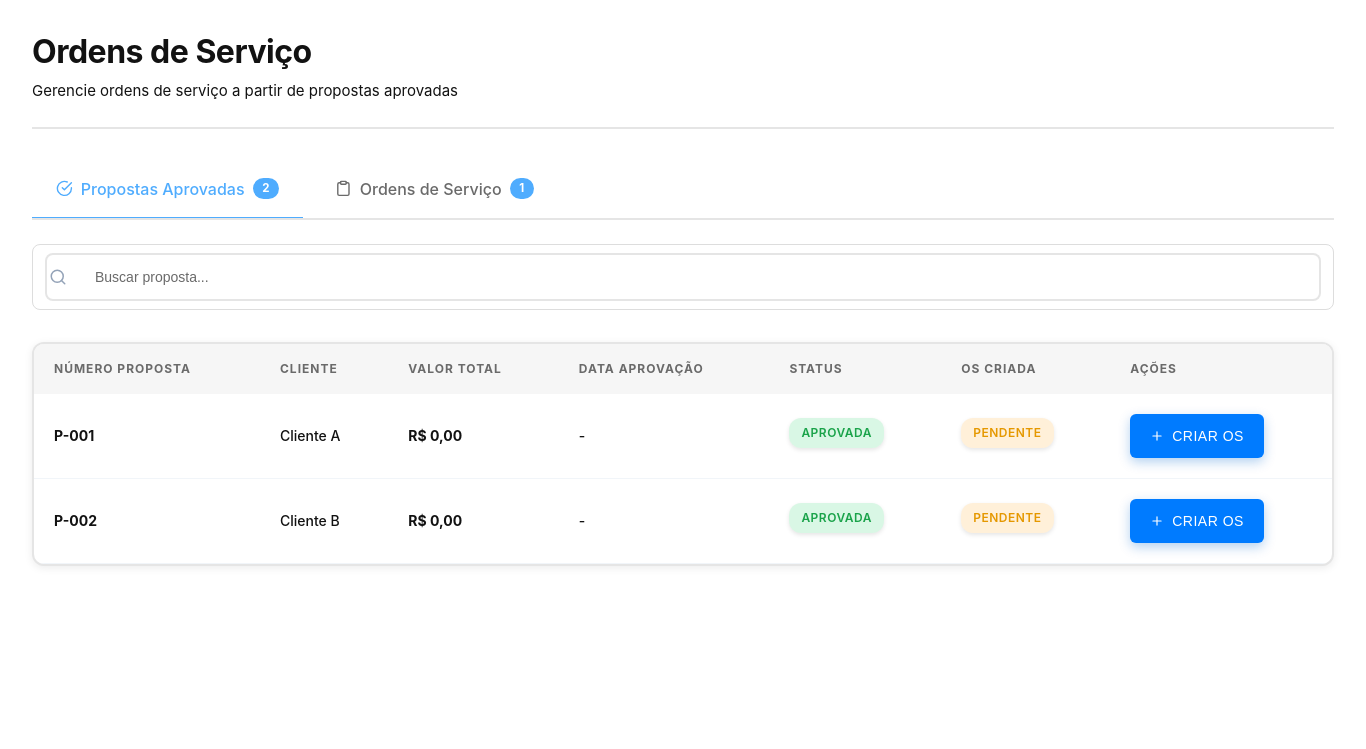
Test case: RN-107.13 comeca em Propostas (tabela de propostas, sem cartoes); Ordens de Servico mostra cartoes e lista de OS
Click the tab "Ordens de Serviço 1" at (434, 190), box x1=311 y1=160 x2=558 y2=220
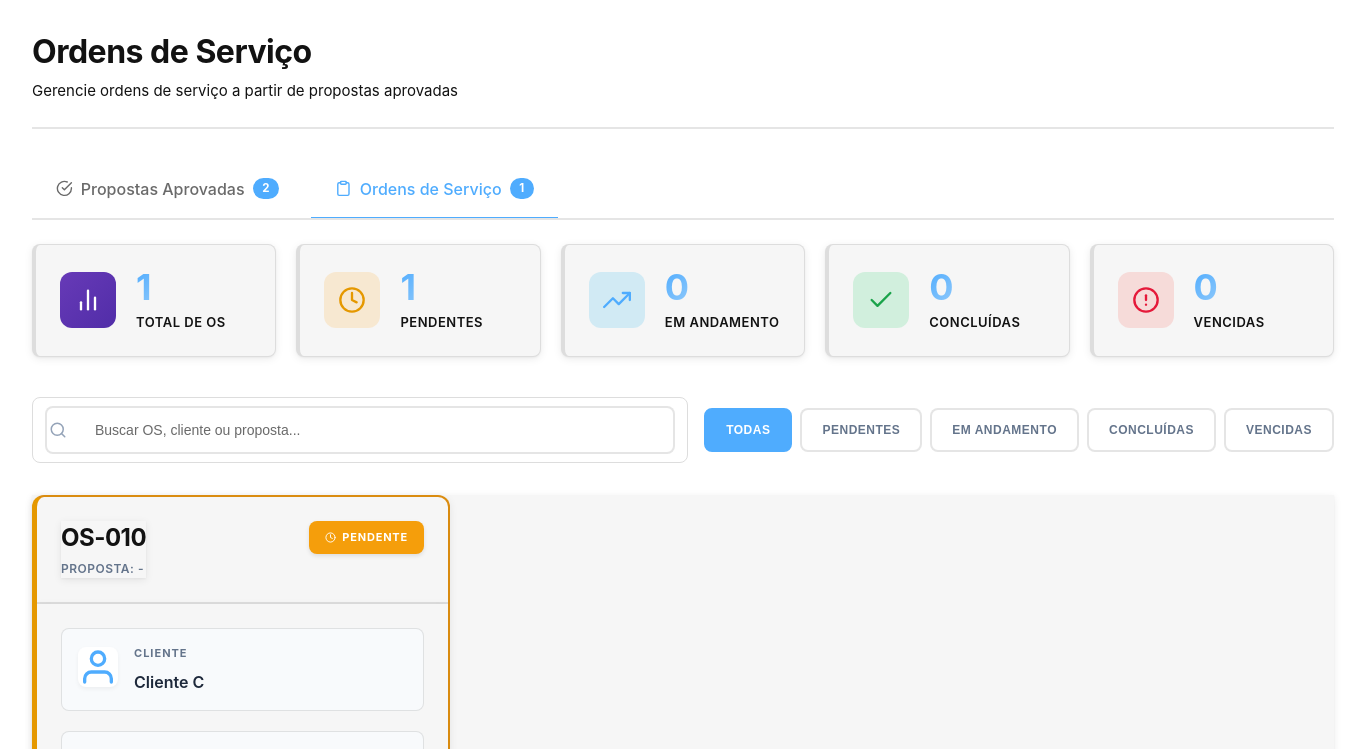
Result: the text "OS-010" is shown at x1=61 y1=521 x2=146 y2=554
Click the tab "Propostas Aprovadas 2" at (168, 190), box x1=32 y1=160 x2=303 y2=220
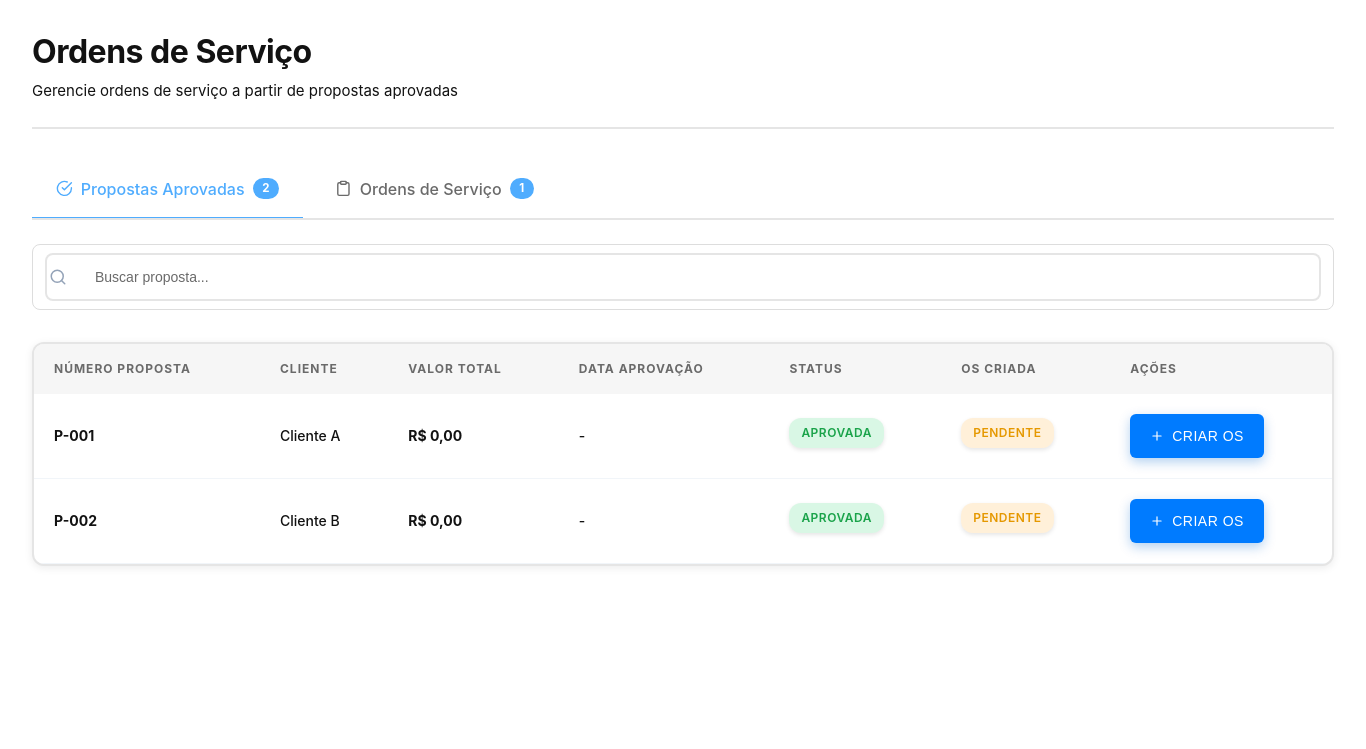
Result: the column heading "Número Proposta" is shown at x1=34 y1=344 x2=260 y2=394
